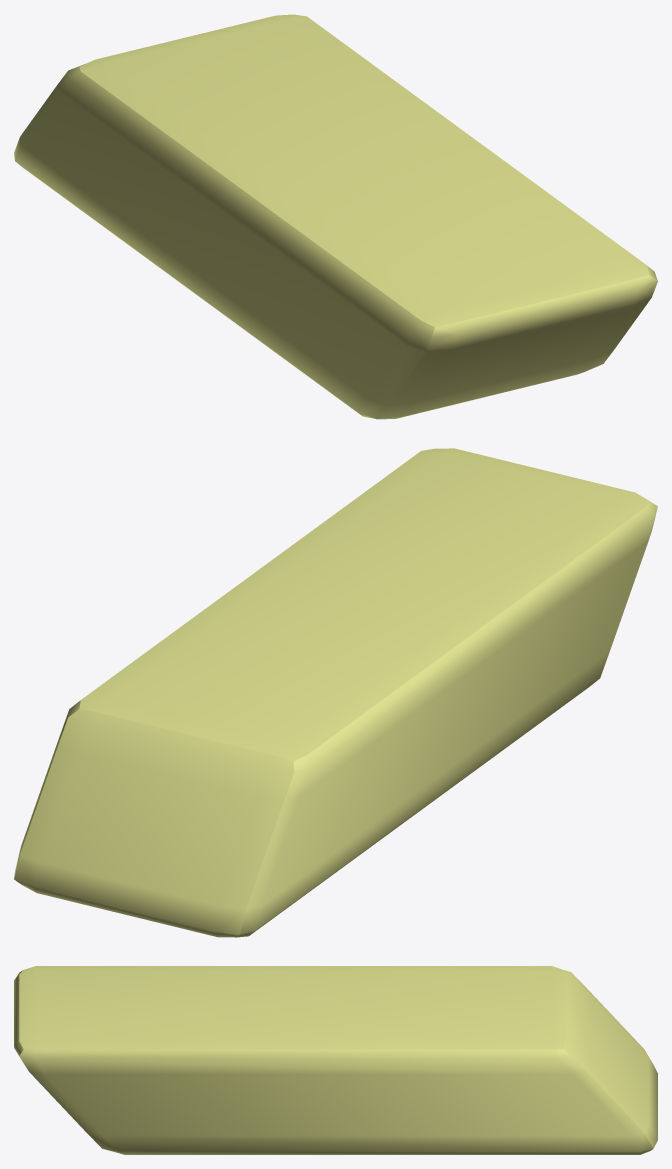
The model's file is 지우개노랑.fbx.
3 views of the same model, one above another, from view 1: azimuth 30°, elevation 25°; view 2: azimuth 150°, elevation 25°; view 3: azimuth 270°, elevation 25° (orthographic). The views are drawn at different scales.
Visible parts, largest first — view 1: eraser; view 2: eraser; view 3: eraser.
Part boxes in pixels (x1,y1,x2,y2): eraser: (14,14,657,419); eraser: (14,448,657,937); eraser: (14,966,657,1154).
Bounding box in the file's own units: 140 × 79.66 × 425.
